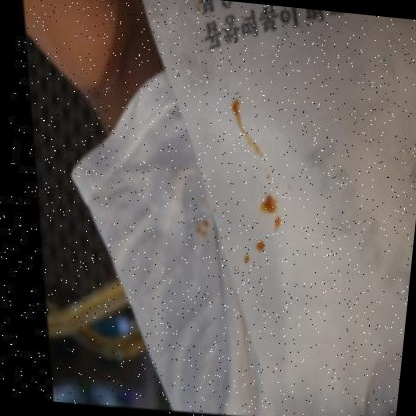kimchi: (222, 95, 279, 169), (255, 191, 291, 234), (192, 214, 216, 239), (231, 268, 246, 283), (243, 249, 256, 266), (254, 242, 270, 255), (211, 200, 222, 214), (264, 170, 276, 182)
